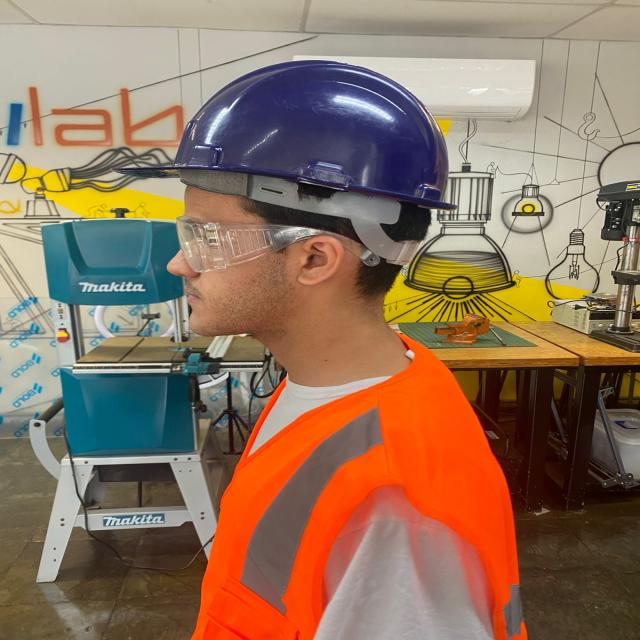CAPACETE: (109, 60, 459, 278)
COLETE: (192, 322, 540, 638)
OCULOS: (172, 219, 388, 283)
